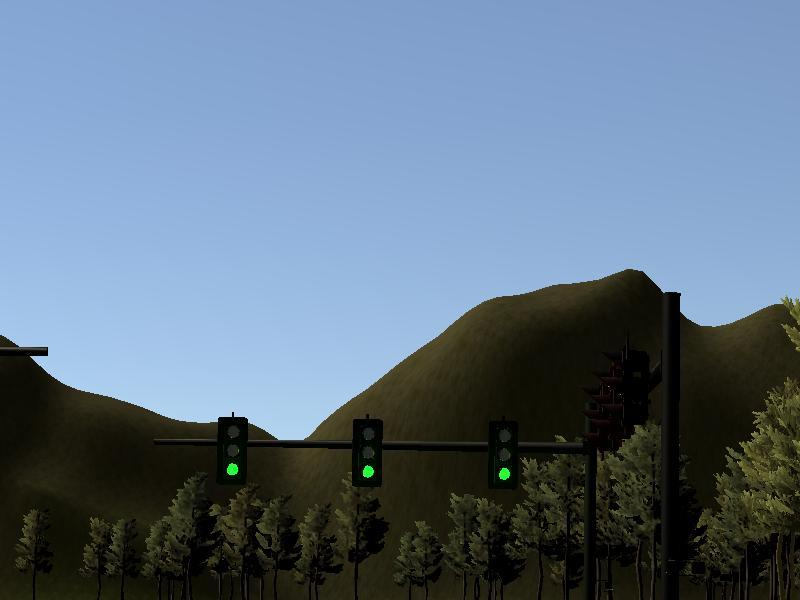Green: (218, 417, 248, 485), (488, 421, 518, 489), (351, 417, 381, 485)
